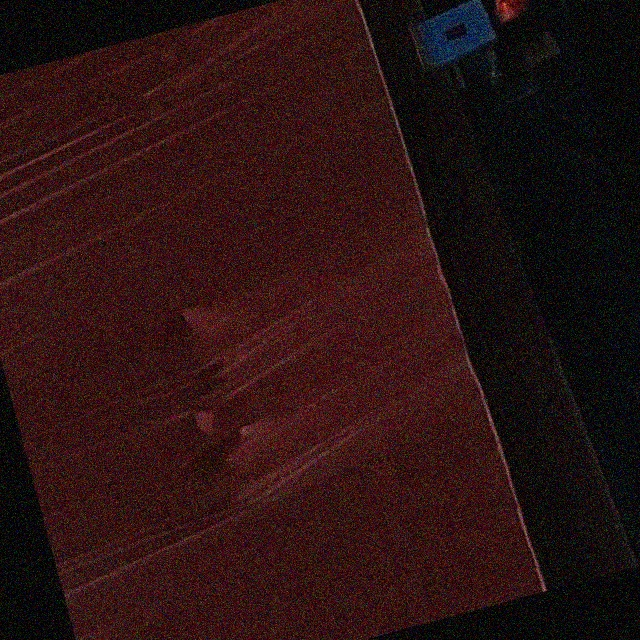Dent: (8, 256, 394, 594)
